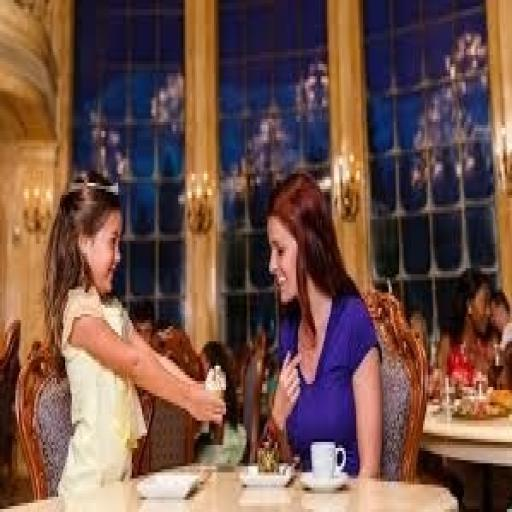sitting: (254, 168, 386, 478), (433, 265, 509, 393)
